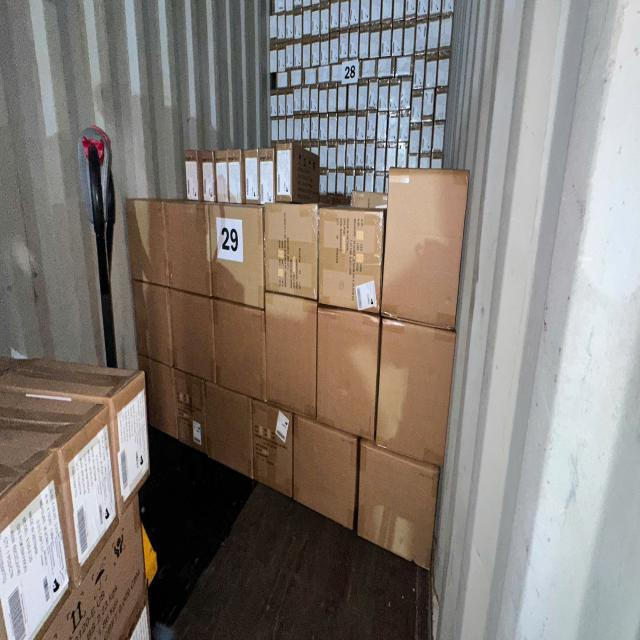Carton: (386, 166, 468, 331), (380, 317, 454, 468), (359, 439, 441, 574), (316, 306, 381, 442), (294, 413, 356, 532), (263, 292, 319, 421), (320, 206, 384, 318), (203, 374, 254, 484), (212, 203, 264, 309), (214, 300, 268, 402), (266, 204, 318, 300), (167, 284, 217, 379), (165, 202, 213, 298), (253, 396, 294, 502), (126, 200, 168, 291), (133, 279, 173, 368), (138, 352, 178, 441), (174, 368, 206, 452), (275, 146, 293, 204), (243, 151, 259, 208), (258, 150, 274, 207), (184, 150, 200, 204), (215, 150, 231, 204), (200, 150, 216, 203), (229, 150, 244, 206)
